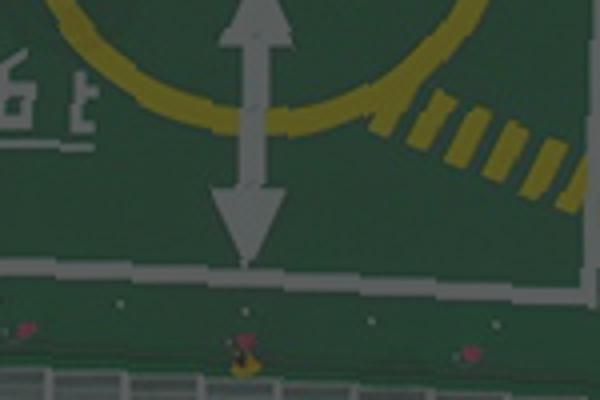Apron: (35, 1, 494, 142)
